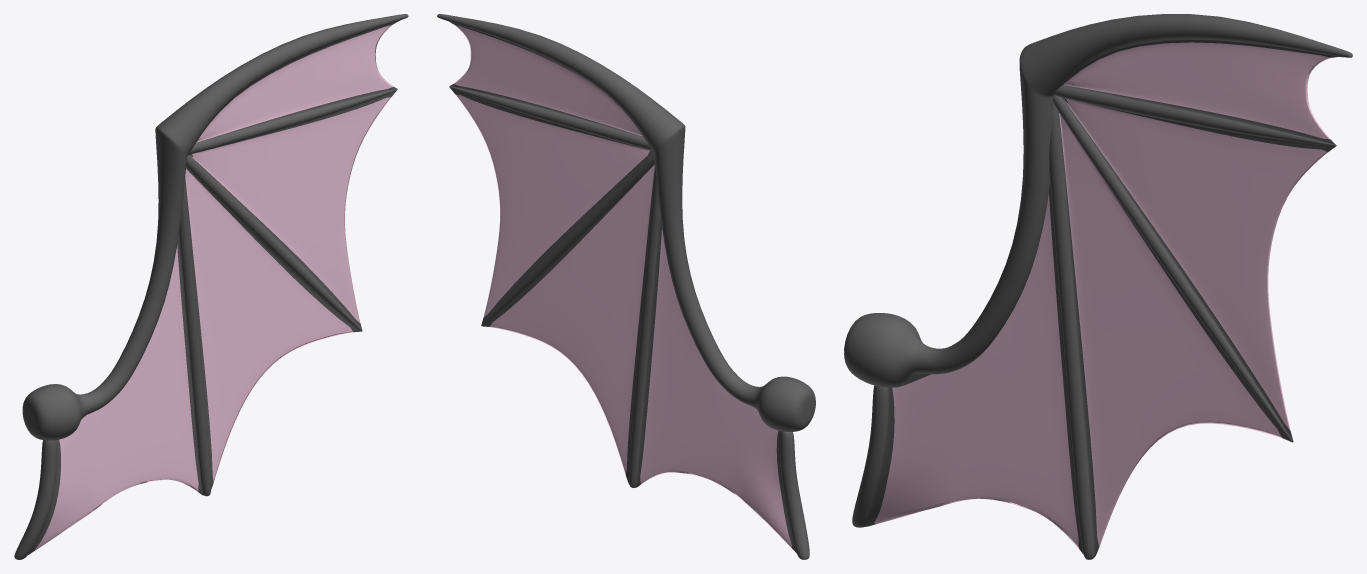
The model's file is PipistrelloAla (1).fbx.
3 renders of one model, left to right at view 1: azimuth 30°, elevation 25°; view 2: azimuth 150°, elevation 25°; view 3: azimuth 330°, elevation 25°, orthographic. The views are drawn at different scales.
Visible parts, largest first — view 1: pCylinder18; view 2: pCylinder18; view 3: pCylinder18.
Part boxes in pixels (box(x1,y1,x2,y2)): pCylinder18: box(14, 14, 408, 559); pCylinder18: box(437, 14, 815, 559); pCylinder18: box(844, 14, 1352, 559).
Size of the model in its own units: 29.41 by 33.57 by 3.69.
